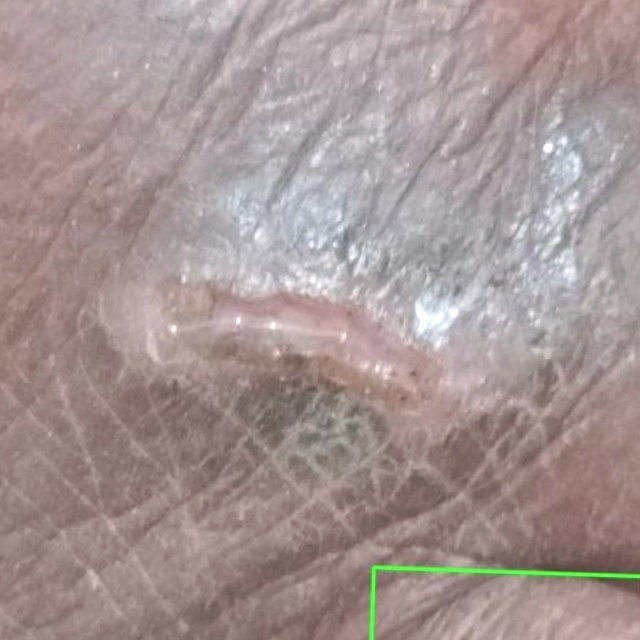Eczema: (370, 567, 639, 639)
